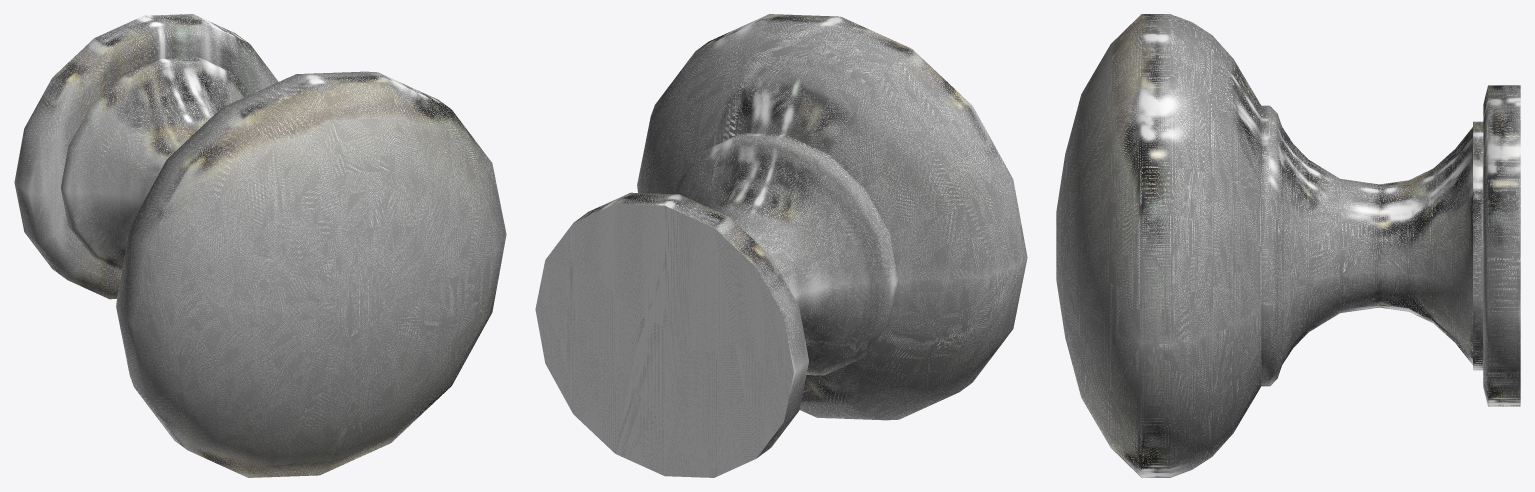
File: original-46.obj
3 renders of one model, left to right at view 1: azimuth 30°, elevation 25°; view 2: azimuth 150°, elevation 25°; view 3: azimuth 270°, elevation 25°, orthographic. The views are drawn at different scales.
Parts seen in each view (by area): view 1: P50153-PC-C7_DF1/P50153-PC-C7_DF/mesh33/mesh33-geometry#mesh33-g; view 2: P50153-PC-C7_DF1/P50153-PC-C7_DF/mesh33/mesh33-geometry#mesh33-g; view 3: P50153-PC-C7_DF1/P50153-PC-C7_DF/mesh33/mesh33-geometry#mesh33-g.
Part boxes in pixels (left/top/right/bottom): P50153-PC-C7_DF1/P50153-PC-C7_DF/mesh33/mesh33-geometry#mesh33-g: left=14, top=14, right=506, bottom=477; P50153-PC-C7_DF1/P50153-PC-C7_DF/mesh33/mesh33-geometry#mesh33-g: left=535, top=14, right=1027, bottom=477; P50153-PC-C7_DF1/P50153-PC-C7_DF/mesh33/mesh33-geometry#mesh33-g: left=1056, top=14, right=1520, bottom=477.
Bounding box in the file's own units: 0.0474 × 0.0474 × 0.0474.
